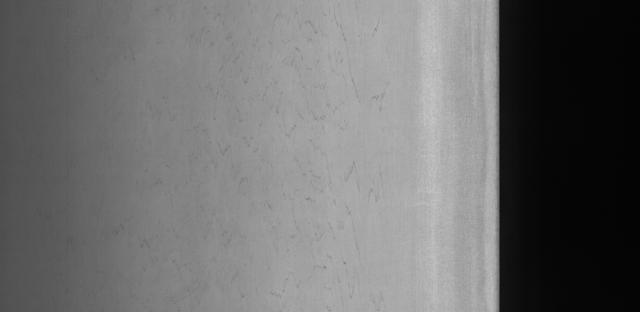silk_spot: (197, 16, 393, 252)
